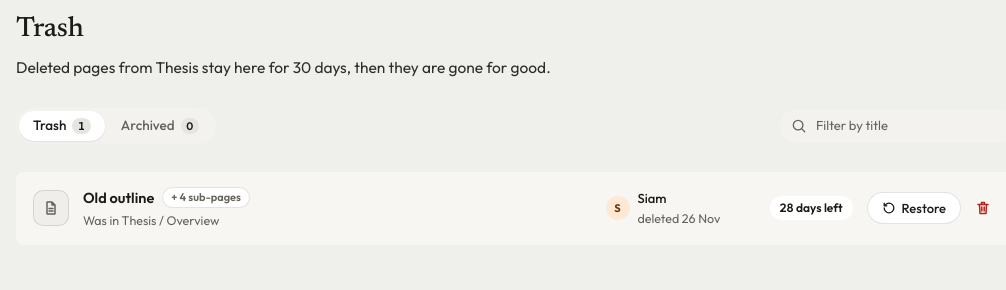
Test: trash page › refusedRestoreShowsTheServersMessage
Click the button "Restore" at coordinates (914, 208), box 867,192 -> 961,224
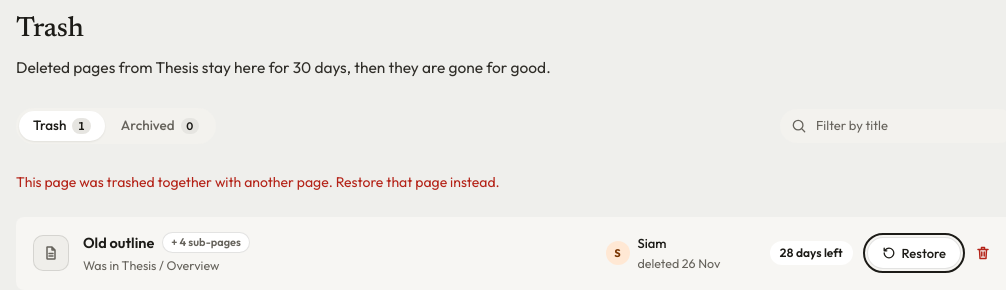
Expected: the message shows "Restore that page instead.", 16,173 -> 500,191
